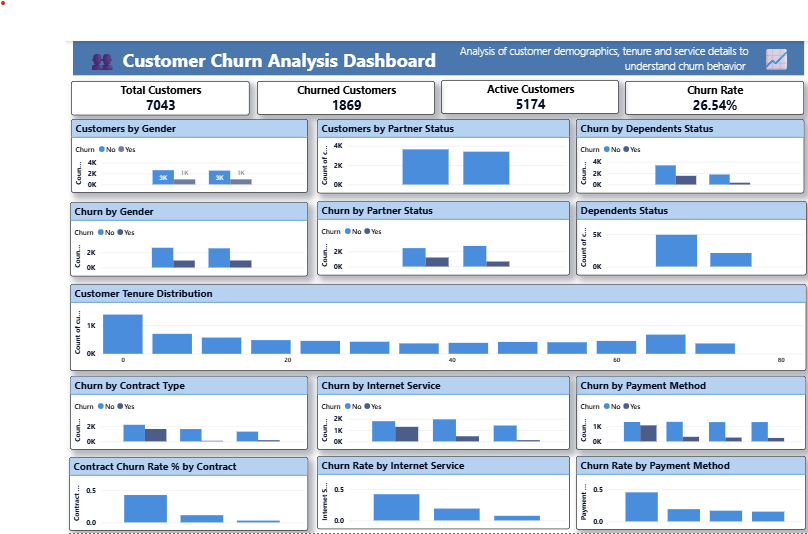

What the dashboard file says about the page in this screenshot:
{"tool":"powerbi","page":{"name":"Page 1","canvas":[1300,860],"ordinal":0},"visuals":[{"type":"card","title":"Total Customers","fields":{"Values":["Telco_Customer_Churn_Dataset.Total Customers"]},"box":[8.6,69.1,312,60.5],"z":1000},{"type":"textbox","box":[12.1,0,1278.5,60.5],"z":1500},{"type":"card","title":"Churned Customers","fields":{"Values":["Telco_Customer_Churn_Dataset.Churned Customers"]},"box":[333.9,69.9,311.1,59.4],"z":2000},{"type":"card","title":"Active Customers","fields":{"Values":["Telco_Customer_Churn_Dataset.Active Customers"]},"box":[655.5,68.2,311.1,59.4],"z":3000},{"type":"card","title":"Churn Rate","fields":{"Values":["Telco_Customer_Churn_Dataset.Churn Rate %"]},"box":[977.1,69.9,312.9,59.4],"z":4000},{"type":"clusteredColumnChart","title":"Customers by Gender","fields":{"Category":["Telco_Customer_Churn_Dataset.gender"],"Y":["CountNonNull(Telco_Customer_Churn_Dataset.customerID)"],"Series":["Telco_Customer_Churn_Dataset.Churn"]},"box":[8.7,136.3,414.3,129.3],"z":5000},{"type":"clusteredColumnChart","title":"Customers by Partner Status","fields":{"Category":["Telco_Customer_Churn_Dataset.Partner"],"Y":["CountNonNull(Telco_Customer_Churn_Dataset.customerID)"]},"box":[438.8,136.5,442.3,129.6],"z":6000},{"type":"clusteredColumnChart","title":"Dependents Status","fields":{"Category":["Telco_Customer_Churn_Dataset.Dependents"],"Y":["CountNonNull(Telco_Customer_Churn_Dataset.customerID)"]},"box":[891.5,279.9,402.5,129.6],"z":7000},{"type":"clusteredColumnChart","title":"Churn by Gender","fields":{"Category":["Telco_Customer_Churn_Dataset.gender"],"Y":["CountNonNull(Telco_Customer_Churn_Dataset.customerID)"],"Series":["Telco_Customer_Churn_Dataset.Churn"]},"box":[6.9,281.6,416.4,129.6],"z":8000},{"type":"clusteredColumnChart","title":"Churn by Partner Status","fields":{"Series":["Telco_Customer_Churn_Dataset.Churn"],"Y":["CountNonNull(Telco_Customer_Churn_Dataset.customerID)"],"Category":["Telco_Customer_Churn_Dataset.Partner"]},"box":[438.8,279.9,442.3,129.6],"z":9000},{"type":"clusteredColumnChart","title":"Churn by Dependents Status","fields":{"Category":["Telco_Customer_Churn_Dataset.Dependents"],"Y":["CountNonNull(Telco_Customer_Churn_Dataset.customerID)"],"Series":["Telco_Customer_Churn_Dataset.Churn"]},"box":[891.5,136.5,399.1,129.6],"z":10000},{"type":"clusteredColumnChart","title":"Customer Tenure Distribution","fields":{"Category":["Telco_Customer_Churn_Dataset.tenure (bins)"],"Y":["CountNonNull(Telco_Customer_Churn_Dataset.customerID)"]},"box":[6.9,425,1287.1,152],"z":11000},{"type":"clusteredColumnChart","title":"Churn by Contract Type","fields":{"Category":["Telco_Customer_Churn_Dataset.Contract"],"Y":["CountNonNull(Telco_Customer_Churn_Dataset.customerID)"],"Series":["Telco_Customer_Churn_Dataset.Churn"]},"box":[7,585.6,416,129.3],"z":12000},{"type":"clusteredColumnChart","title":"Churn by Payment Method","fields":{"Category":["Telco_Customer_Churn_Dataset.PaymentMethod"],"Y":["CountNonNull(Telco_Customer_Churn_Dataset.customerID)"],"Series":["Telco_Customer_Churn_Dataset.Churn"]},"box":[891.5,585.6,402,129.3],"z":13000},{"type":"clusteredColumnChart","title":"Churn by Internet Service","fields":{"Category":["Telco_Customer_Churn_Dataset.InternetService"],"Y":["CountNonNull(Telco_Customer_Churn_Dataset.customerID)"],"Series":["Telco_Customer_Churn_Dataset.Churn"]},"box":[438.7,585.6,442.2,129.3],"z":14000},{"type":"clusteredColumnChart","fields":{"Category":["Telco_Customer_Churn_Dataset.Contract"],"Y":["Telco_Customer_Churn_Dataset.Contract Churn Rate %"]},"box":[5.2,727.2,417.8,129.3],"z":15000},{"type":"clusteredColumnChart","title":"Churn Rate by Payment Method","fields":{"Y":["Telco_Customer_Churn_Dataset.Payment Method Churn Rate %"],"Category":["Telco_Customer_Churn_Dataset.PaymentMethod"]},"box":[891.5,725.4,402,129.3],"z":16000},{"type":"clusteredColumnChart","title":"Churn Rate by Internet Service","fields":{"Y":["Telco_Customer_Churn_Dataset.Internet Service Churn Rate %"],"Category":["Telco_Customer_Churn_Dataset.InternetService"]},"box":[438.7,725.4,442.2,127.6],"z":17000},{"type":"textbox","box":[11.7,0,652.7,60],"z":18000},{"type":"textbox","box":[671.7,0,526.8,60],"z":19000},{"type":"textbox","box":[1211.7,0,68.8,60],"z":20000}]}

Visuals, with their boxes in screenshot pixels (x1, y1, x2, y2), scaled from the page's 1300x860 canvas onto the 808x534 screenshot:
"Total Customers" card: (5,43,199,80)
textbox: (8,0,802,38)
"Churned Customers" card: (208,43,401,80)
"Active Customers" card: (407,42,601,79)
"Churn Rate" card: (607,43,802,80)
"Customers by Gender" clusteredColumnChart: (5,85,263,165)
"Customers by Partner Status" clusteredColumnChart: (273,85,548,165)
"Dependents Status" clusteredColumnChart: (554,174,804,254)
"Churn by Gender" clusteredColumnChart: (4,175,263,255)
"Churn by Partner Status" clusteredColumnChart: (273,174,548,254)
"Churn by Dependents Status" clusteredColumnChart: (554,85,802,165)
"Customer Tenure Distribution" clusteredColumnChart: (4,264,804,358)
"Churn by Contract Type" clusteredColumnChart: (4,364,263,444)
"Churn by Payment Method" clusteredColumnChart: (554,364,804,444)
"Churn by Internet Service" clusteredColumnChart: (273,364,548,444)
clusteredColumnChart - Telco_Customer_Churn_Dataset.Contract x Telco_Customer_Churn_Dataset.Contract Churn Rate %: (3,452,263,532)
"Churn Rate by Payment Method" clusteredColumnChart: (554,450,804,531)
"Churn Rate by Internet Service" clusteredColumnChart: (273,450,548,530)
textbox: (7,0,413,37)
textbox: (417,0,745,37)
textbox: (753,0,796,37)
